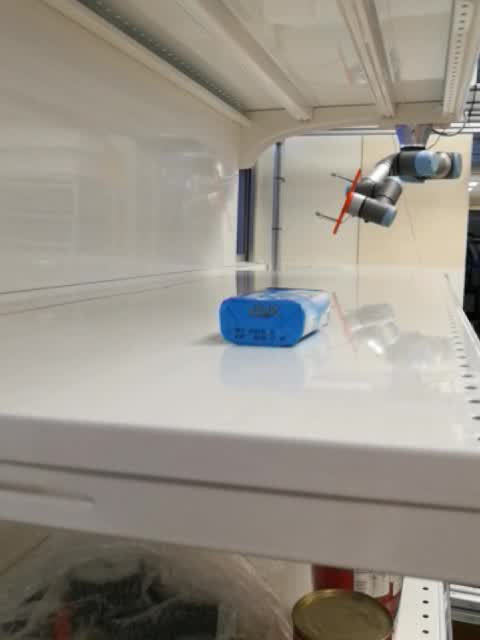soap: (215, 287, 333, 350)
